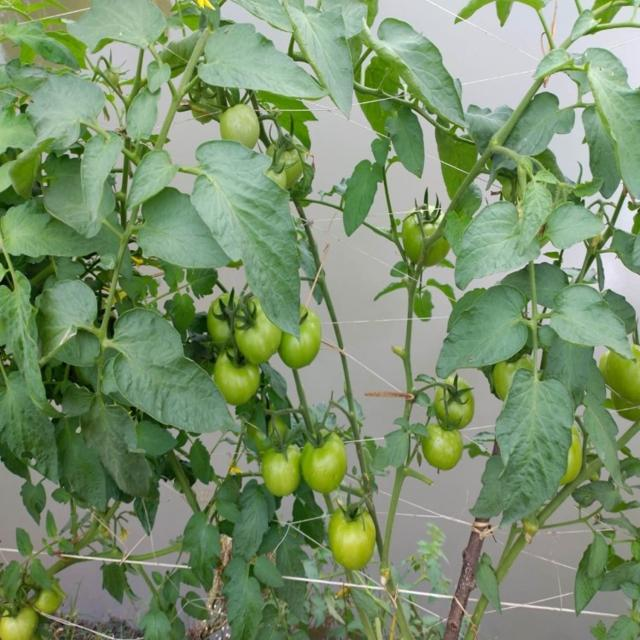tomato: (232, 290, 285, 366), (402, 195, 462, 260), (278, 299, 327, 374), (213, 343, 261, 415), (305, 420, 348, 494), (333, 502, 377, 571), (217, 94, 268, 150), (434, 374, 479, 430), (424, 425, 469, 481), (257, 448, 302, 501), (489, 350, 536, 397), (24, 570, 71, 614), (607, 338, 640, 400), (200, 289, 241, 334), (278, 133, 309, 182), (563, 422, 584, 492), (256, 158, 291, 193), (5, 601, 36, 640), (251, 419, 292, 445)
